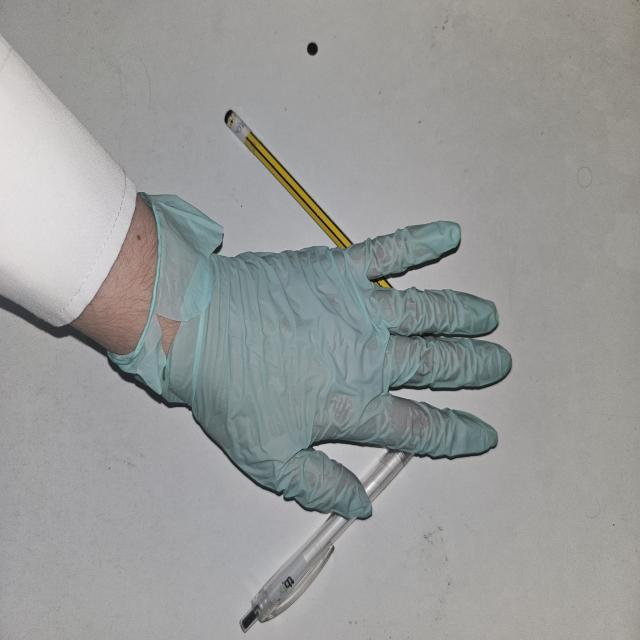gloves_damaged: (107, 187, 513, 519)
